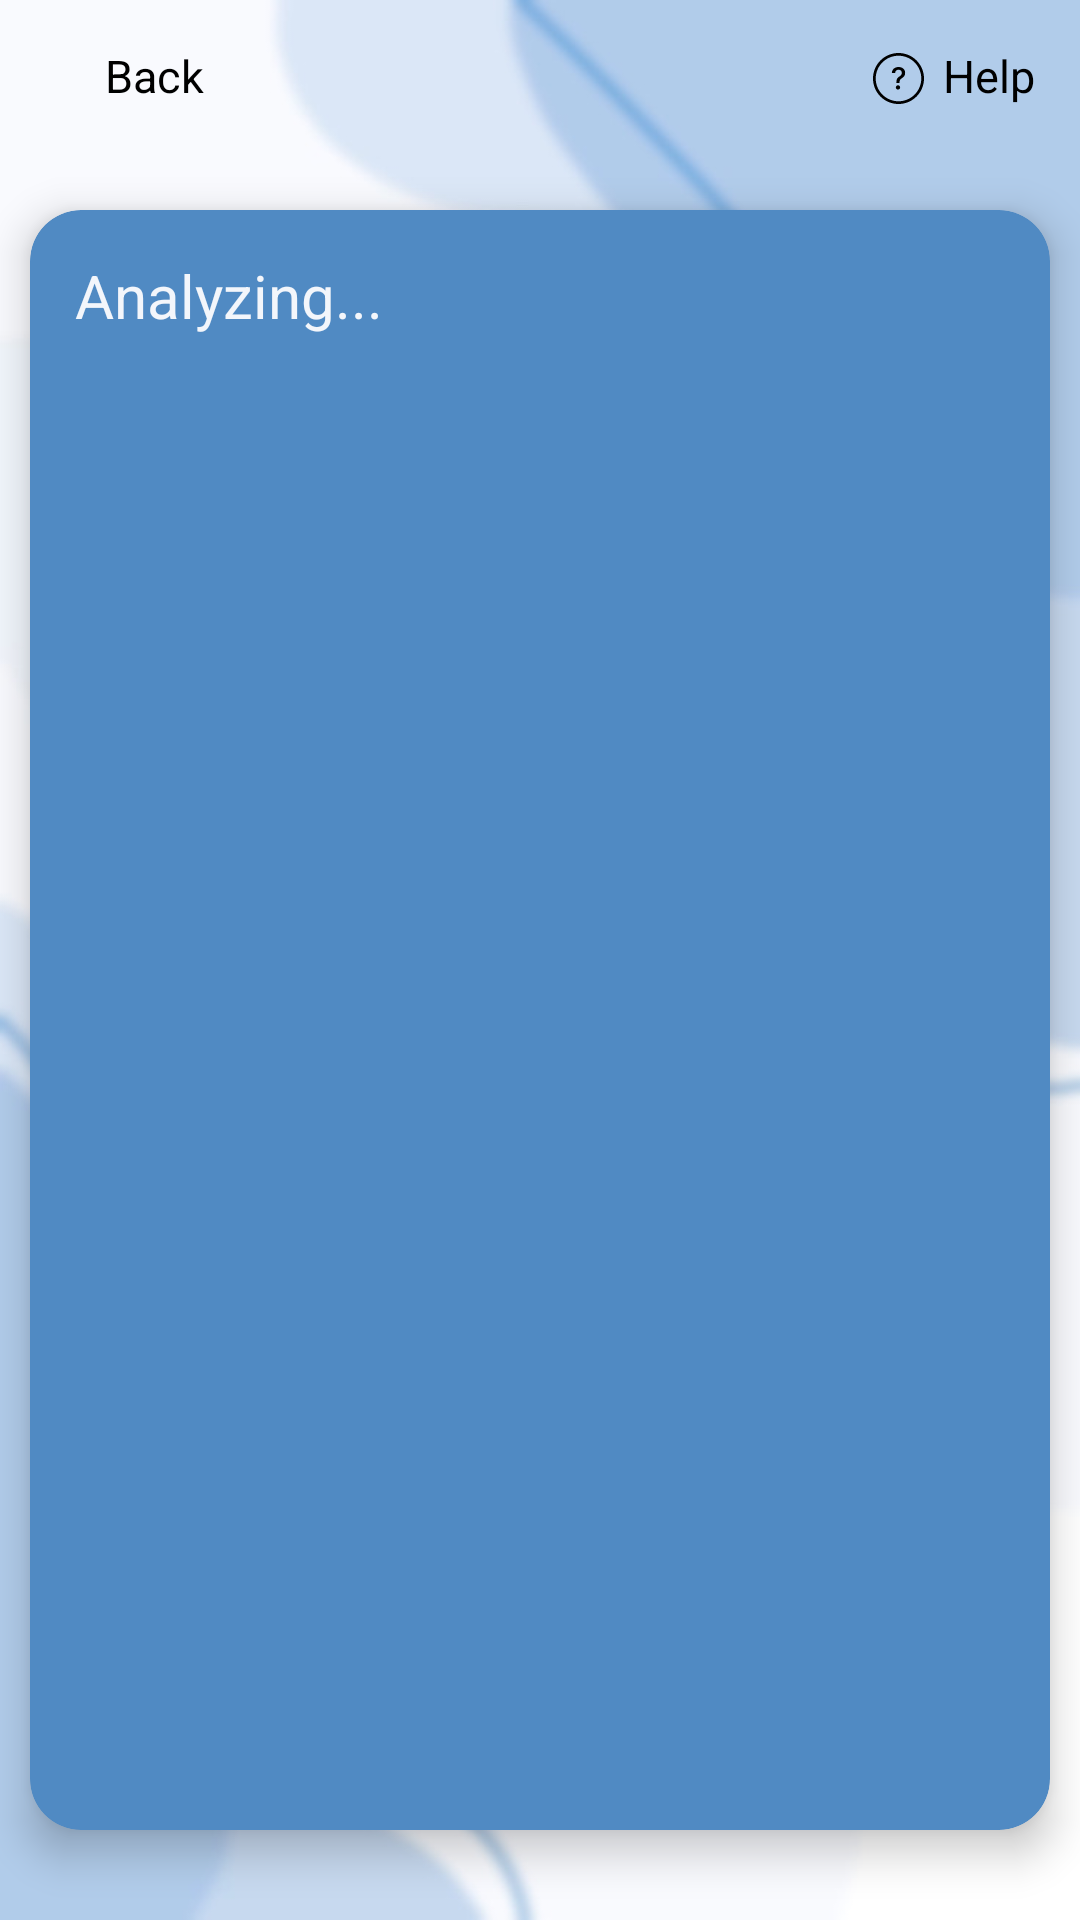

Icon bounding boxes for this 1080px x 1920px phone screenshot, format (x1, y1, x2, y2):
question mark circle: (873, 53, 924, 104)
